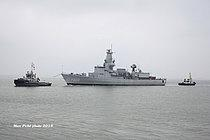MIL_Ship: (60, 45, 168, 87)
